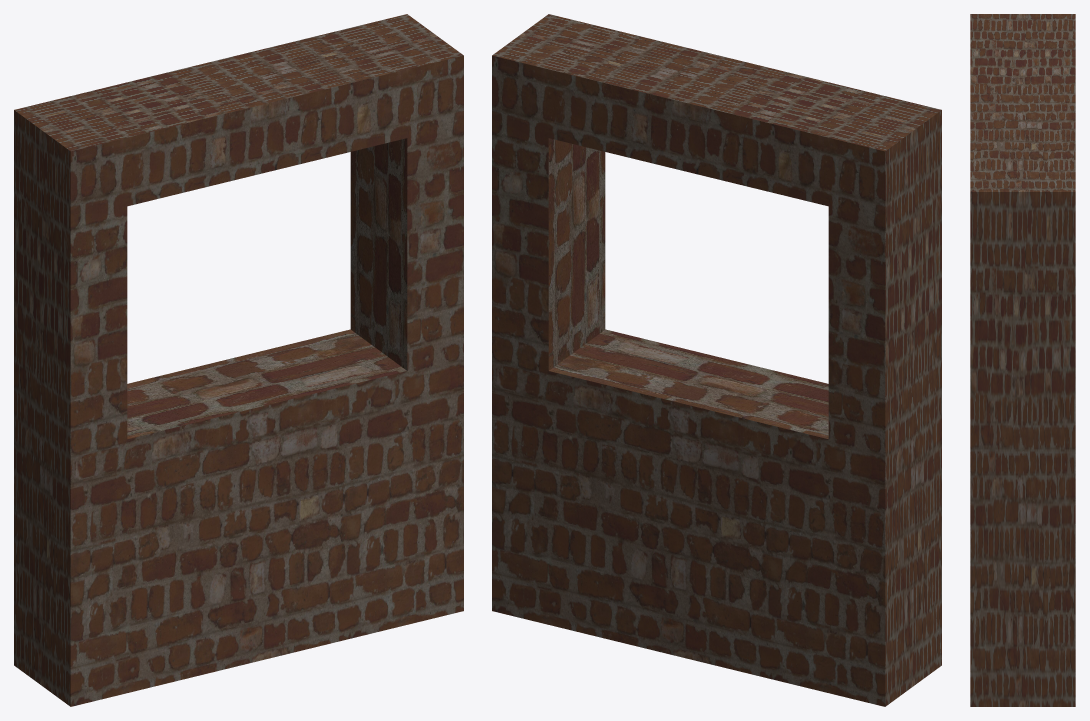
File: wall_window_001.glb
3 views of the same model, side by side, from view 1: azimuth 30°, elevation 25°; view 2: azimuth 150°, elevation 25°; view 3: azimuth 270°, elevation 25° (orthographic). The views are drawn at different scales.
Parts seen in each view (by area): view 1: Wall_Window_001-col; view 2: Wall_Window_001-col; view 3: Wall_Window_001-col.
Part boxes in pixels (x1,y1,x2,y2): Wall_Window_001-col: [14, 14, 463, 706]; Wall_Window_001-col: [492, 14, 941, 706]; Wall_Window_001-col: [970, 14, 1075, 706].
Bounding box in the file's own units: 2 × 2.7 × 0.5.
Materials: 1 (1 with a texture image).
